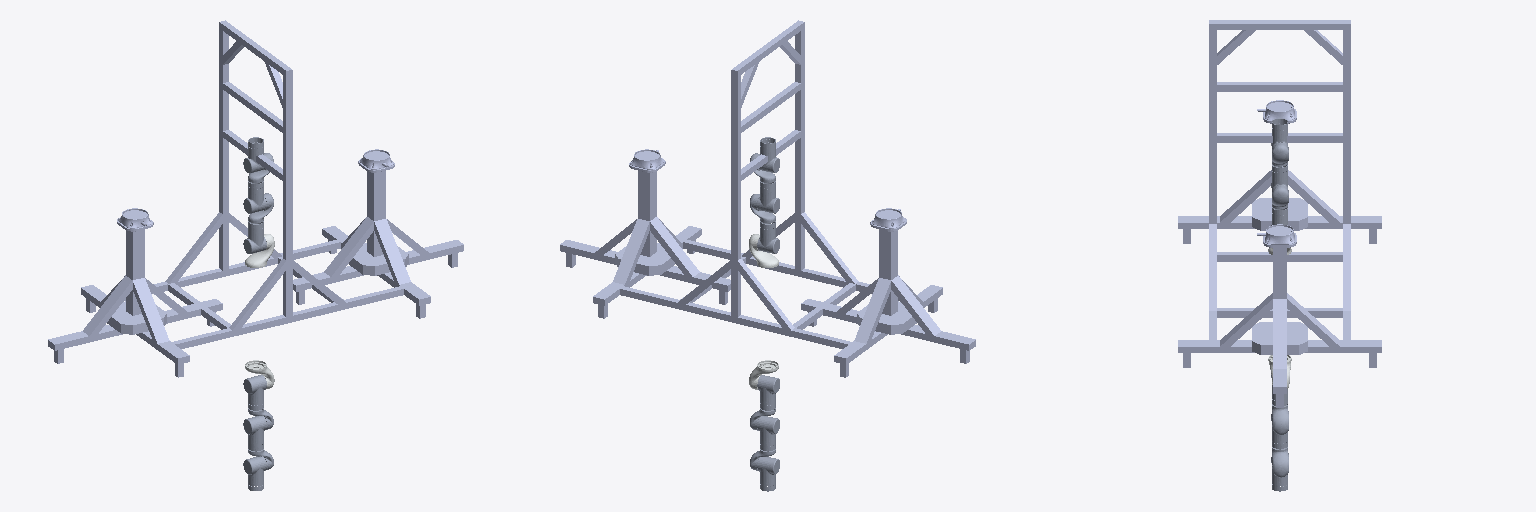
The robot description file, URDF, robot "X7-duo(2)":
<?xml version="1.0" encoding="utf-8"?>
<!-- This URDF was automatically created by SolidWorks to URDF Exporter! Originally created by [author] ([email redacted]) 
     Commit Version: 1.6.0-1-g15f4949  Build Version: 1.6.7594.29634
     For more information, please see http://wiki.ros.org/sw_urdf_exporter -->
<robot
  name="X7-duo(2)">
  <link
    name="base_link">
    <inertial>
      <origin
        xyz="-0.362230924510549 0.292936995026824 -0.00346514121300403"
        rpy="0 0 0" />
      <mass
        value="841.059374418799" />
      <inertia
        ixx="46.1239466552901"
        ixy="-0.0323358134675047"
        ixz="0.00321101498386625"
        iyy="40.9088285659479"
        iyz="0.0607333639766209"
        izz="42.4118451236677" />
    </inertial>
    <visual>
      <origin
        xyz="0 0 0"
        rpy="0 0 0" />
      <geometry>
        <mesh
          filename="package://X7-duo(2)/meshes/base_link.STL" />
      </geometry>
      <material
        name="">
        <color
          rgba="0.792156862745098 0.819607843137255 0.933333333333333 1" />
      </material>
    </visual>
    <collision>
      <origin
        xyz="0 0 0"
        rpy="0 0 0" />
      <geometry>
        <mesh
          filename="package://X7-duo(2)/meshes/base_link.STL" />
      </geometry>
    </collision>
  </link>
  <link
    name="Link1">
    <inertial>
      <origin
        xyz="-1.1683E-05 0.050407 -0.049668"
        rpy="0 0 0" />
      <mass
        value="2.092" />
      <inertia
        ixx="0.003644"
        ixy="7.1624E-07"
        ixz="9.6043E-07"
        iyy="0.0038992"
        iyz="-0.00080245"
        izz="0.0029499" />
    </inertial>
    <visual>
      <origin
        xyz="0 0 0"
        rpy="0 0 0" />
      <geometry>
        <mesh
          filename="package://X7-duo(2)/meshes/Link1.STL" />
      </geometry>
      <material
        name="">
        <color
          rgba="0.89804 0.91765 0.92941 1" />
      </material>
    </visual>
    <collision>
      <origin
        xyz="0 0 0"
        rpy="0 0 0" />
      <geometry>
        <mesh
          filename="package://X7-duo(2)/meshes/Link1.STL" />
      </geometry>
    </collision>
  </link>
  <joint
    name="Joint1"
    type="revolute">
    <origin
      xyz="0 0 0.4345"
      rpy="0 0 -1.5251" />
    <parent
      link="base_link" />
    <child
      link="Link1" />
    <axis
      xyz="0 0 1" />
    <limit
      lower="-3.14"
      upper="3.14"
      effort="190"
      velocity="1" />
  </joint>
  <link
    name="Link2">
    <inertial>
      <origin
        xyz="-0.00011256 0.041285 -0.0022275"
        rpy="0 0 0" />
      <mass
        value="0.83875" />
      <inertia
        ixx="0.0025419"
        ixy="-6.5906E-06"
        ixz="-1.19E-06"
        iyy="0.0012397"
        iyz="8.6273E-05"
        izz="0.0028224" />
    </inertial>
    <visual>
      <origin
        xyz="0 0 0"
        rpy="0 0 0" />
      <geometry>
        <mesh
          filename="package://X7-duo(2)/meshes/Link2.STL" />
      </geometry>
      <material
        name="">
        <color
          rgba="0.66667 0.69804 0.76863 1" />
      </material>
    </visual>
    <collision>
      <origin
        xyz="0 0 0"
        rpy="0 0 0" />
      <geometry>
        <mesh
          filename="package://X7-duo(2)/meshes/Link2.STL" />
      </geometry>
    </collision>
  </link>
  <joint
    name="Joint2"
    type="revolute">
    <origin
      xyz="0 0 0"
      rpy="1.5708 0 3.1416" />
    <parent
      link="Link1" />
    <child
      link="Link2" />
    <axis
      xyz="0 0 -1" />
    <limit
      lower="-3.14"
      upper="3.14"
      effort="45"
      velocity="1" />
  </joint>
  <link
    name="Link3">
    <inertial>
      <origin
        xyz="2.2102E-06 0.05514 -0.031556"
        rpy="0 0 0" />
      <mass
        value="1.3226" />
      <inertia
        ixx="0.0017673"
        ixy="1.4213E-08"
        ixz="5.1267E-08"
        iyy="0.0019097"
        iyz="-0.0004238"
        izz="0.001322" />
    </inertial>
    <visual>
      <origin
        xyz="0 0 0"
        rpy="0 0 0" />
      <geometry>
        <mesh
          filename="package://X7-duo(2)/meshes/Link3.STL" />
      </geometry>
      <material
        name="">
        <color
          rgba="0.66667 0.69804 0.76863 1" />
      </material>
    </visual>
    <collision>
      <origin
        xyz="0 0 0"
        rpy="0 0 0" />
      <geometry>
        <mesh
          filename="package://X7-duo(2)/meshes/Link3.STL" />
      </geometry>
    </collision>
  </link>
  <joint
    name="Joint3"
    type="revolute">
    <origin
      xyz="0 0.2525 0"
      rpy="1.5708 0 3.1416" />
    <parent
      link="Link2" />
    <child
      link="Link3" />
    <axis
      xyz="0 0 -1" />
    <limit
      lower="-3.14"
      upper="3.14"
      effort="45"
      velocity="1" />
  </joint>
  <link
    name="Link4">
    <inertial>
      <origin
        xyz="-0.00011256 0.041285 -0.0022275"
        rpy="0 0 0" />
      <mass
        value="0.83875" />
      <inertia
        ixx="0.0025419"
        ixy="-6.5906E-06"
        ixz="-1.19E-06"
        iyy="0.0012397"
        iyz="8.6273E-05"
        izz="0.0028224" />
    </inertial>
    <visual>
      <origin
        xyz="0 0 0"
        rpy="0 0 0" />
      <geometry>
        <mesh
          filename="package://X7-duo(2)/meshes/Link4.STL" />
      </geometry>
      <material
        name="">
        <color
          rgba="0.66667 0.69804 0.76863 1" />
      </material>
    </visual>
    <collision>
      <origin
        xyz="0 0 0"
        rpy="0 0 0" />
      <geometry>
        <mesh
          filename="package://X7-duo(2)/meshes/Link4.STL" />
      </geometry>
    </collision>
  </link>
  <joint
    name="Joint4"
    type="revolute">
    <origin
      xyz="0 0 0"
      rpy="1.5708 0 3.1416" />
    <parent
      link="Link3" />
    <child
      link="Link4" />
    <axis
      xyz="0 0 -1" />
    <limit
      lower="-3.14"
      upper="3.14"
      effort="45"
      velocity="1" />
  </joint>
  <link
    name="Link5">
    <inertial>
      <origin
        xyz="2.2093E-06 0.05514 -0.031556"
        rpy="0 0 0" />
      <mass
        value="1.3226" />
      <inertia
        ixx="0.0017673"
        ixy="1.4176E-08"
        ixz="5.1222E-08"
        iyy="0.0019097"
        iyz="-0.0004238"
        izz="0.001322" />
    </inertial>
    <visual>
      <origin
        xyz="0 0 0"
        rpy="0 0 0" />
      <geometry>
        <mesh
          filename="package://X7-duo(2)/meshes/Link5.STL" />
      </geometry>
      <material
        name="">
        <color
          rgba="0.66667 0.69804 0.76863 1" />
      </material>
    </visual>
    <collision>
      <origin
        xyz="0 0 0"
        rpy="0 0 0" />
      <geometry>
        <mesh
          filename="package://X7-duo(2)/meshes/Link5.STL" />
      </geometry>
    </collision>
  </link>
  <joint
    name="Joint5"
    type="revolute">
    <origin
      xyz="0 0.2525 0"
      rpy="1.5708 0 3.1416" />
    <parent
      link="Link4" />
    <child
      link="Link5" />
    <axis
      xyz="0 0 -1" />
    <limit
      lower="-3.14"
      upper="3.14"
      effort="45"
      velocity="1" />
  </joint>
  <link
    name="Link6">
    <inertial>
      <origin
        xyz="-0.00011256 0.041285 -0.0022275"
        rpy="0 0 0" />
      <mass
        value="0.83875" />
      <inertia
        ixx="0.0025419"
        ixy="-6.5906E-06"
        ixz="-1.19E-06"
        iyy="0.0012397"
        iyz="8.6273E-05"
        izz="0.0028224" />
    </inertial>
    <visual>
      <origin
        xyz="0 0 0"
        rpy="0 0 0" />
      <geometry>
        <mesh
          filename="package://X7-duo(2)/meshes/Link6.STL" />
      </geometry>
      <material
        name="">
        <color
          rgba="0.66667 0.69804 0.76863 1" />
      </material>
    </visual>
    <collision>
      <origin
        xyz="0 0 0"
        rpy="0 0 0" />
      <geometry>
        <mesh
          filename="package://X7-duo(2)/meshes/Link6.STL" />
      </geometry>
    </collision>
  </link>
  <joint
    name="Joint6"
    type="revolute">
    <origin
      xyz="0 0 0"
      rpy="1.5708 0 3.1416" />
    <parent
      link="Link5" />
    <child
      link="Link6" />
    <axis
      xyz="0 0 -1" />
    <limit
      lower="-3.14"
      upper="3.14"
      effort="45"
      velocity="1" />
  </joint>
  <link
    name="Link7">
    <inertial>
      <origin
        xyz="-9.975E-05 -0.0001078 0.12704"
        rpy="0 0 0" />
      <mass
        value="1.4581" />
      <inertia
        ixx="0.00073198"
        ixy="9.7501E-08"
        ixz="-8.7769E-07"
        iyy="0.00073784"
        iyz="-1.5995E-06"
        izz="0.0011127" />
    </inertial>
    <visual>
      <origin
        xyz="0 0 0"
        rpy="0 0 0" />
      <geometry>
        <mesh
          filename="package://X7-duo(2)/meshes/Link7.STL" />
      </geometry>
      <material
        name="">
        <color
          rgba="0.75294 0.75294 0.75294 1" />
      </material>
    </visual>
    <collision>
      <origin
        xyz="0 0 0"
        rpy="0 0 0" />
      <geometry>
        <mesh
          filename="package://X7-duo(2)/meshes/Link7.STL" />
      </geometry>
    </collision>
  </link>
  <joint
    name="Joint7"
    type="revolute">
    <origin
      xyz="0 0 0"
      rpy="1.5708 0 3.1416" />
    <parent
      link="Link6" />
    <child
      link="Link7" />
    <axis
      xyz="0 0 1" />
    <limit
      lower="-3.14"
      upper="3.14"
      effort="45"
      velocity="1" />
  </joint>
  <link
    name="Link8">
    <inertial>
      <origin
        xyz="-1.13429334526738E-05 0.0504075893092015 -0.0496678513924143"
        rpy="0 0 0" />
      <mass
        value="2.09194606226853" />
      <inertia
        ixx="0.00364399275445242"
        ixy="7.06884111213726E-07"
        ixz="9.50748744270944E-07"
        iyy="0.00389918388947431"
        iyz="-0.000802438458553338"
        izz="0.00294987442129985" />
    </inertial>
    <visual>
      <origin
        xyz="0 0 0"
        rpy="0 0 0" />
      <geometry>
        <mesh
          filename="package://X7-duo(2)/meshes/Link8.STL" />
      </geometry>
      <material
        name="">
        <color
          rgba="0.898039215686275 0.917647058823529 0.929411764705882 1" />
      </material>
    </visual>
    <collision>
      <origin
        xyz="0 0 0"
        rpy="0 0 0" />
      <geometry>
        <mesh
          filename="package://X7-duo(2)/meshes/Link8.STL" />
      </geometry>
    </collision>
  </link>
  <joint
    name="Joint8"
    type="revolute">
    <origin
      xyz="0 0 -0.4385"
      rpy="3.1416 0 1.6376" />
    <parent
      link="base_link" />
    <child
      link="Link8" />
    <axis
      xyz="0 0 1" />
    <limit
      lower="-3.14"
      upper="3.14"
      effort="190"
      velocity="1" />
  </joint>
  <link
    name="Link9">
    <inertial>
      <origin
        xyz="-0.00011256522461553 0.0412854149831438 -0.00222750466992383"
        rpy="0 0 0" />
      <mass
        value="0.838751218757198" />
      <inertia
        ixx="0.00254192859839716"
        ixy="-6.59062205953789E-06"
        ixz="-1.18998893514286E-06"
        iyy="0.00123965768796234"
        iyz="8.62734670087217E-05"
        izz="0.00282242746807384" />
    </inertial>
    <visual>
      <origin
        xyz="0 0 0"
        rpy="0 0 0" />
      <geometry>
        <mesh
          filename="package://X7-duo(2)/meshes/Link9.STL" />
      </geometry>
      <material
        name="">
        <color
          rgba="0.666666666666667 0.698039215686274 0.768627450980392 1" />
      </material>
    </visual>
    <collision>
      <origin
        xyz="0 0 0"
        rpy="0 0 0" />
      <geometry>
        <mesh
          filename="package://X7-duo(2)/meshes/Link9.STL" />
      </geometry>
    </collision>
  </link>
  <joint
    name="Joint9"
    type="revolute">
    <origin
      xyz="0 0 0"
      rpy="1.5708 0 3.1416" />
    <parent
      link="Link8" />
    <child
      link="Link9" />
    <axis
      xyz="0 0 -1" />
    <limit
      lower="-3.14"
      upper="3.14"
      effort="45"
      velocity="1" />
  </joint>
  <link
    name="Link10">
    <inertial>
      <origin
        xyz="2.29691597714021E-06 0.0551396722696096 -0.0315561431611154"
        rpy="0 0 0" />
      <mass
        value="1.3225700524055" />
      <inertia
        ixx="0.00176734181201217"
        ixy="1.63915647814682E-08"
        ixz="5.31028401832918E-08"
        iyy="0.00190967793104957"
        iyz="-0.000423798348497842"
        izz="0.00132199056092953" />
    </inertial>
    <visual>
      <origin
        xyz="0 0 0"
        rpy="0 0 0" />
      <geometry>
        <mesh
          filename="package://X7-duo(2)/meshes/Link10.STL" />
      </geometry>
      <material
        name="">
        <color
          rgba="0.666666666666667 0.698039215686274 0.768627450980392 1" />
      </material>
    </visual>
    <collision>
      <origin
        xyz="0 0 0"
        rpy="0 0 0" />
      <geometry>
        <mesh
          filename="package://X7-duo(2)/meshes/Link10.STL" />
      </geometry>
    </collision>
  </link>
  <joint
    name="Joint10"
    type="revolute">
    <origin
      xyz="0 0.2525 0"
      rpy="1.5708 0 3.1416" />
    <parent
      link="Link9" />
    <child
      link="Link10" />
    <axis
      xyz="0 0 -1" />
    <limit
      lower="-3.14"
      upper="3.14"
      effort="45"
      velocity="1" />
  </joint>
  <link
    name="Link11">
    <inertial>
      <origin
        xyz="-0.00011256522461528 0.041285414983144 -0.0022275046699245"
        rpy="0 0 0" />
      <mass
        value="0.838751218757202" />
      <inertia
        ixx="0.00254192859839718"
        ixy="-6.590622059533E-06"
        ixz="-1.18998893513755E-06"
        iyy="0.00123965768796235"
        iyz="8.62734670087314E-05"
        izz="0.00282242746807385" />
    </inertial>
    <visual>
      <origin
        xyz="0 0 0"
        rpy="0 0 0" />
      <geometry>
        <mesh
          filename="package://X7-duo(2)/meshes/Link11.STL" />
      </geometry>
      <material
        name="">
        <color
          rgba="0.666666666666667 0.698039215686274 0.768627450980392 1" />
      </material>
    </visual>
    <collision>
      <origin
        xyz="0 0 0"
        rpy="0 0 0" />
      <geometry>
        <mesh
          filename="package://X7-duo(2)/meshes/Link11.STL" />
      </geometry>
    </collision>
  </link>
  <joint
    name="Joint11"
    type="revolute">
    <origin
      xyz="0 0 0"
      rpy="1.5708 0 3.1416" />
    <parent
      link="Link10" />
    <child
      link="Link11" />
    <axis
      xyz="0 0 -1" />
    <limit
      lower="-3.14"
      upper="3.14"
      effort="45"
      velocity="1" />
  </joint>
  <link
    name="Link12">
    <inertial>
      <origin
        xyz="2.2985648719942E-06 0.0551396722468784 -0.0315561431430874"
        rpy="0 0 0" />
      <mass
        value="1.32257004871916" />
      <inertia
        ixx="0.00176734180715147"
        ixy="1.64572833134978E-08"
        ixz="5.31860931740121E-08"
        iyy="0.00190967791616066"
        iyz="-0.00042379834597667"
        izz="0.00132199054882672" />
    </inertial>
    <visual>
      <origin
        xyz="0 0 0"
        rpy="0 0 0" />
      <geometry>
        <mesh
          filename="package://X7-duo(2)/meshes/Link12.STL" />
      </geometry>
      <material
        name="">
        <color
          rgba="0.666666666666667 0.698039215686274 0.768627450980392 1" />
      </material>
    </visual>
    <collision>
      <origin
        xyz="0 0 0"
        rpy="0 0 0" />
      <geometry>
        <mesh
          filename="package://X7-duo(2)/meshes/Link12.STL" />
      </geometry>
    </collision>
  </link>
  <joint
    name="Joint12"
    type="revolute">
    <origin
      xyz="0 0.2525 0"
      rpy="1.5708 0 3.1416" />
    <parent
      link="Link11" />
    <child
      link="Link12" />
    <axis
      xyz="0 0 -1" />
    <limit
      lower="-3.14"
      upper="3.14"
      effort="45"
      velocity="1" />
  </joint>
  <link
    name="Link13">
    <inertial>
      <origin
        xyz="-0.000112565224615863 0.0412854149831442 -0.0022275046699245"
        rpy="0 0 0" />
      <mass
        value="0.838751218757205" />
      <inertia
        ixx="0.00254192859839716"
        ixy="-6.59062205954451E-06"
        ixz="-1.1899889351498E-06"
        iyy="0.00123965768796235"
        iyz="8.62734670087266E-05"
        izz="0.00282242746807385" />
    </inertial>
    <visual>
      <origin
        xyz="0 0 0"
        rpy="0 0 0" />
      <geometry>
        <mesh
          filename="package://X7-duo(2)/meshes/Link13.STL" />
      </geometry>
      <material
        name="">
        <color
          rgba="0.666666666666667 0.698039215686274 0.768627450980392 1" />
      </material>
    </visual>
    <collision>
      <origin
        xyz="0 0 0"
        rpy="0 0 0" />
      <geometry>
        <mesh
          filename="package://X7-duo(2)/meshes/Link13.STL" />
      </geometry>
    </collision>
  </link>
  <joint
    name="Joint13"
    type="revolute">
    <origin
      xyz="0 0 0"
      rpy="1.5708 0 3.1416" />
    <parent
      link="Link12" />
    <child
      link="Link13" />
    <axis
      xyz="0 0 -1" />
    <limit
      lower="-3.14"
      upper="3.14"
      effort="45"
      velocity="1" />
  </joint>
  <link
    name="Link14">
    <inertial>
      <origin
        xyz="-9.9749788228215E-05 -0.000107798040414941 0.127038003995972"
        rpy="0 0 0" />
      <mass
        value="1.45808397711983" />
      <inertia
        ixx="0.000731984271854175"
        ixy="9.75004468583981E-08"
        ixz="-8.77688033919086E-07"
        iyy="0.000737839455210335"
        iyz="-1.59953622040243E-06"
        izz="0.00111266330572851" />
    </inertial>
    <visual>
      <origin
        xyz="0 0 0"
        rpy="0 0 0" />
      <geometry>
        <mesh
          filename="package://X7-duo(2)/meshes/Link14.STL" />
      </geometry>
      <material
        name="">
        <color
          rgba="0.752941176470588 0.752941176470588 0.752941176470588 1" />
      </material>
    </visual>
    <collision>
      <origin
        xyz="0 0 0"
        rpy="0 0 0" />
      <geometry>
        <mesh
          filename="package://X7-duo(2)/meshes/Link14.STL" />
      </geometry>
    </collision>
  </link>
  <joint
    name="Joint14"
    type="revolute">
    <origin
      xyz="0 0 0"
      rpy="1.5708 0 -3.1416" />
    <parent
      link="Link13" />
    <child
      link="Link14" />
    <axis
      xyz="0 0 1" />
    <limit
      lower="-3.14"
      upper="3.14"
      effort="45"
      velocity="1" />
  </joint>
</robot>

--- What the picture shows (computed from the rendered views, not written in the file) ---
3 views of the same robot in one strip: view 1: azimuth 30°, elevation 25°; view 2: azimuth 150°, elevation 25°; view 3: azimuth 270°, elevation 25° (orthographic).
Robot: X7-duo(2) — 15 links, 14 joints (14 revolute); root link base_link; default pose: every joint at zero.
Visible links, largest first — view 1: base_link, Link11, Link9, Link13, Link2, Link4; view 2: base_link, Link11, Link9, Link13, Link2, Link4; view 3: base_link.
Link boxes in pixels (bbox=[...]): base_link: bbox=[48, 20, 463, 377]; Link11: bbox=[243, 416, 266, 450]; Link9: bbox=[243, 375, 266, 410]; Link13: bbox=[243, 456, 266, 490]; Link2: bbox=[243, 221, 266, 253]; Link4: bbox=[243, 181, 266, 213]; base_link: bbox=[560, 20, 975, 377]; Link11: bbox=[757, 416, 779, 450]; Link9: bbox=[757, 375, 779, 410]; Link13: bbox=[757, 457, 779, 491]; Link2: bbox=[757, 221, 779, 253]; Link4: bbox=[757, 181, 779, 213]; base_link: bbox=[1178, 20, 1381, 407].
Size in the robot's own frame: 2.68 by 1.1 by 2.77 metres.
Meshes: 15 distinct files referenced, 13 mesh visuals loaded (13 binary STL); not drawn: 2 (file found but could not be loaded).
